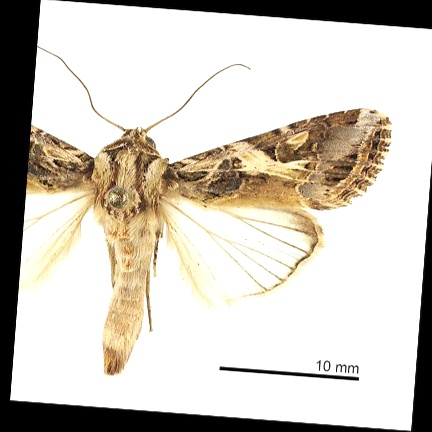Spodoptera litura: (25, 58, 386, 383)
